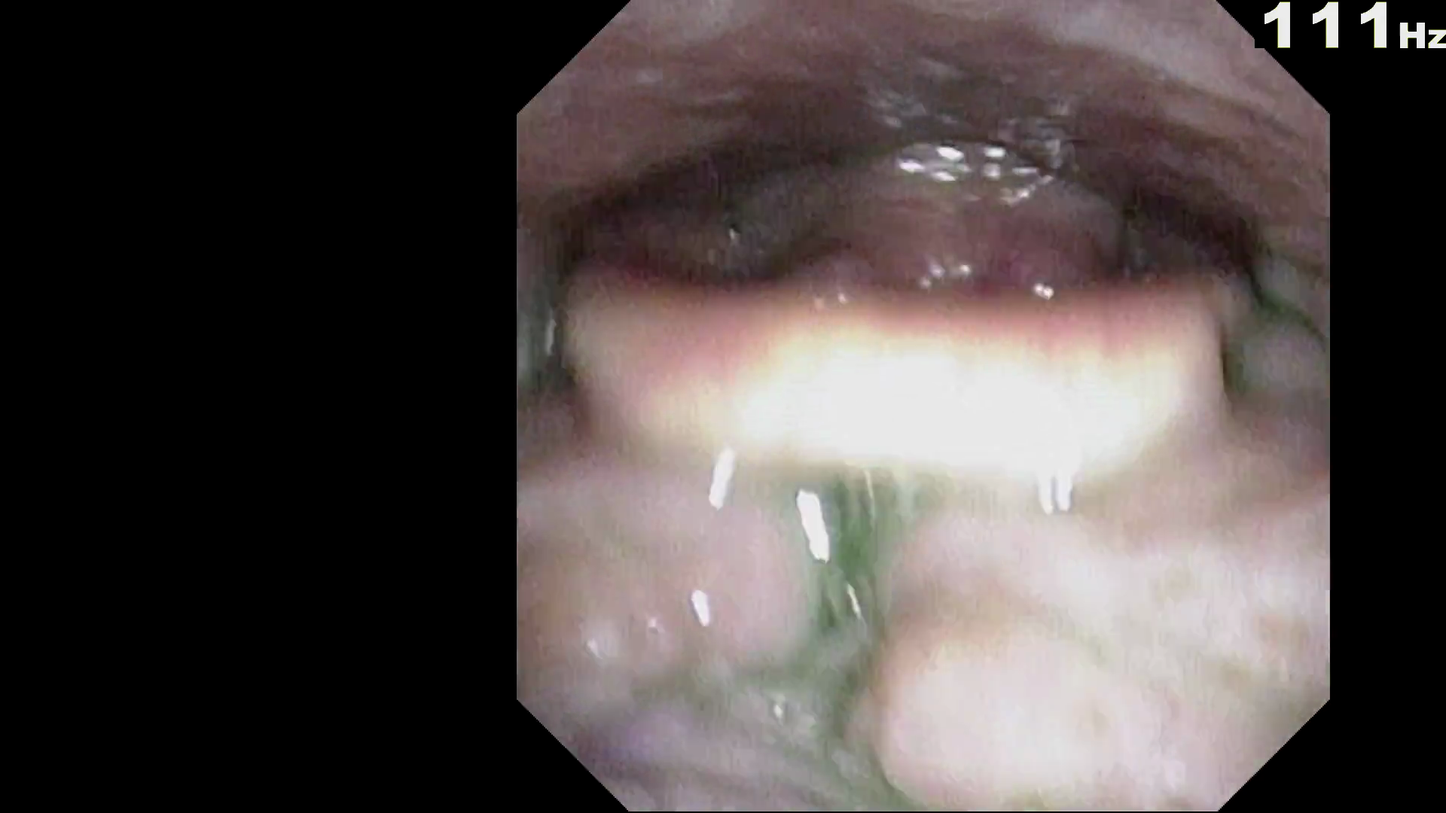epiglottis: (535, 223, 1299, 517)
